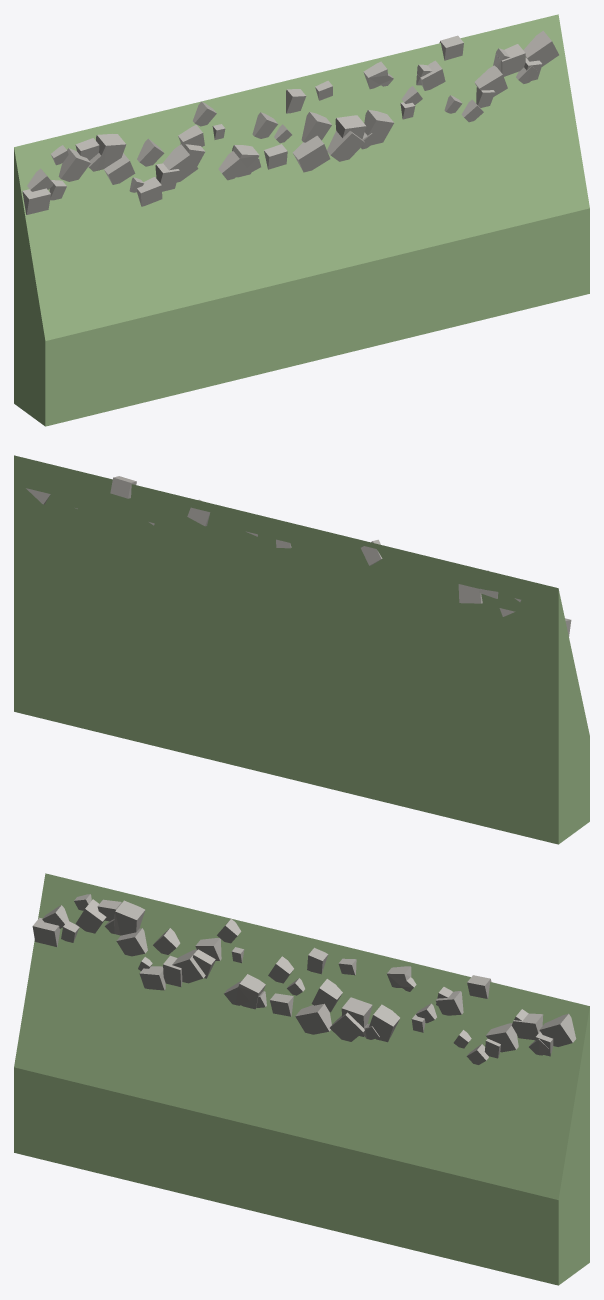
The model's file is r-143-champlain-canal-riprap-bank.glb.
The picture shows the model from 3 angles, top to bottom: view 1: azimuth 30°, elevation 25°; view 2: azimuth 150°, elevation 25°; view 3: azimuth 330°, elevation 25°; orthographic projection.
Parts seen in each view (by area): view 1: berm, riprap; view 2: berm, riprap; view 3: berm, riprap.
Boxes of the visible parts, x1,y1,x2,y2 form: berm: (14, 14, 589, 426); riprap: (22, 30, 558, 214); berm: (14, 455, 589, 844); riprap: (26, 476, 571, 636); berm: (14, 873, 589, 1285); riprap: (32, 894, 576, 1064).
Size of the model in its own units: 20000 by 9095 by 2187.
